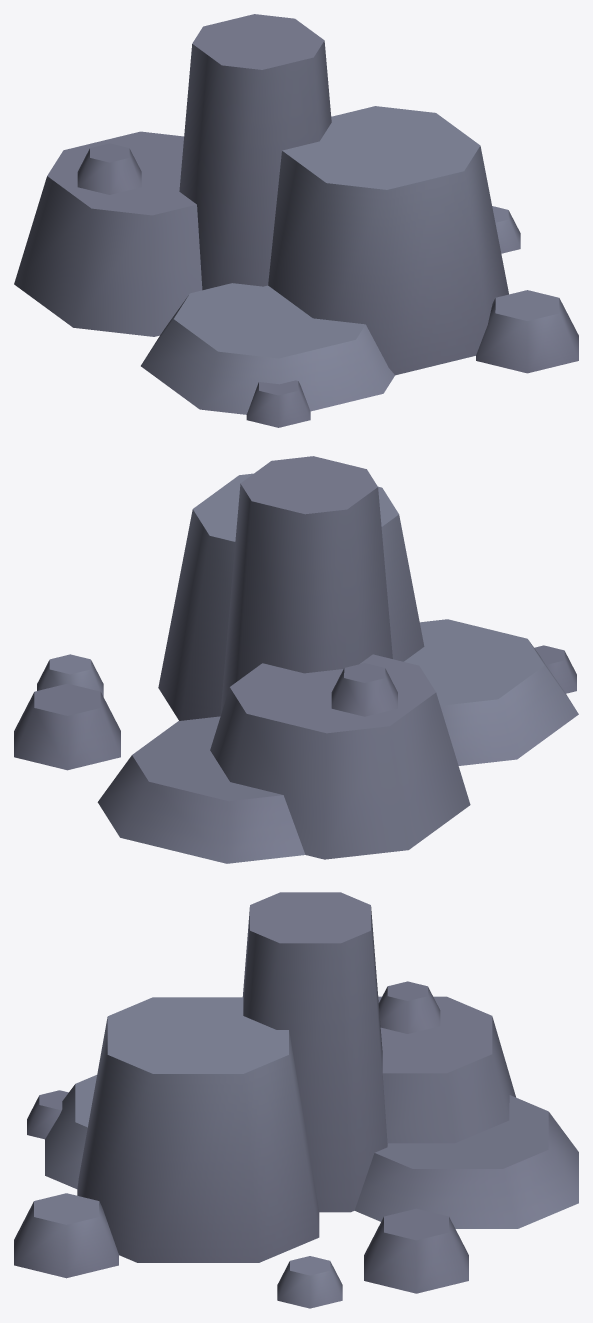
The model's file is stones.009_lev5.glb.
3 renders of one model, top to bottom at view 1: azimuth 30°, elevation 25°; view 2: azimuth 150°, elevation 25°; view 3: azimuth 270°, elevation 25°, orthographic. The views are drawn at different scales.
Parts seen in each view (by area): view 1: stones.009_lev5; view 2: stones.009_lev5; view 3: stones.009_lev5.
Boxes of the visible parts, x1,y1,x2,y2 form: stones.009_lev5: (14,14,578,427); stones.009_lev5: (14,456,578,863); stones.009_lev5: (14,892,578,1308).
Size of the model in its own units: 3.22 by 1.82 by 3.57.
1 material, 1 textured.
